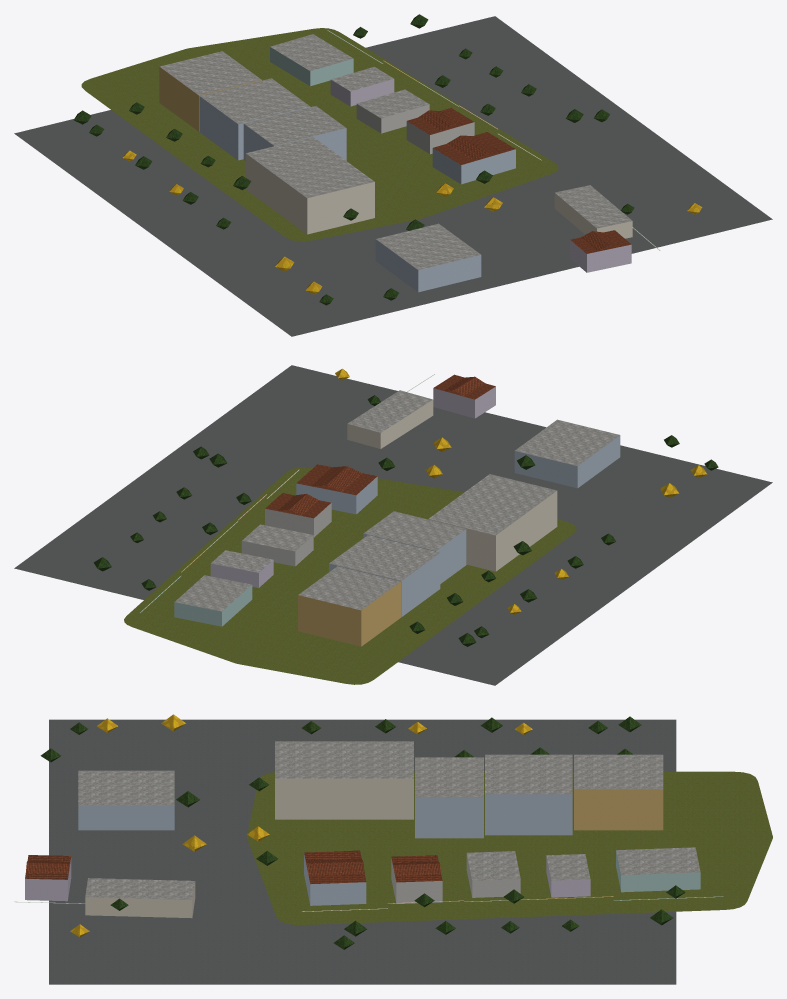
Rendered from cidade_S01_04_lod.gltf.
3 renders of one model, top to bottom at view 1: azimuth 30°, elevation 25°; view 2: azimuth 150°, elevation 25°; view 3: azimuth 270°, elevation 25°, orthographic. The views are drawn at different scales.
Parts seen in each view (by area): view 1: S01_04_Chao_LOD2, S01_04_Edificios_LOD1, S01_04_Vegetacao_LOD2, S01_04_Silhueta_LOD2; view 2: S01_04_Chao_LOD2, S01_04_Edificios_LOD1, S01_04_Silhueta_LOD2, S01_04_Vegetacao_LOD2; view 3: S01_04_Chao_LOD2, S01_04_Edificios_LOD1, S01_04_Vegetacao_LOD2, S01_04_Silhueta_LOD2.
Boxes of the visible parts, <box> form: S01_04_Chao_LOD2: <box>14,16,772,336</box>; S01_04_Edificios_LOD1: <box>159,30,660,292</box>; S01_04_Vegetacao_LOD2: <box>74,14,702,305</box>; S01_04_Silhueta_LOD2: <box>406,108,631,271</box>; S01_04_Chao_LOD2: <box>14,365,772,685</box>; S01_04_Edificios_LOD1: <box>140,374,620,646</box>; S01_04_Silhueta_LOD2: <box>265,374,495,536</box>; S01_04_Vegetacao_LOD2: <box>93,368,718,646</box>; S01_04_Chao_LOD2: <box>49,719,772,984</box>; S01_04_Edificios_LOD1: <box>14,741,723,918</box>; S01_04_Vegetacao_LOD2: <box>40,714,685,949</box>; S01_04_Silhueta_LOD2: <box>25,850,442,905</box>.
Size of the model in its own units: 100 by 7.37 by 121.
14 materials, 14 textured.
